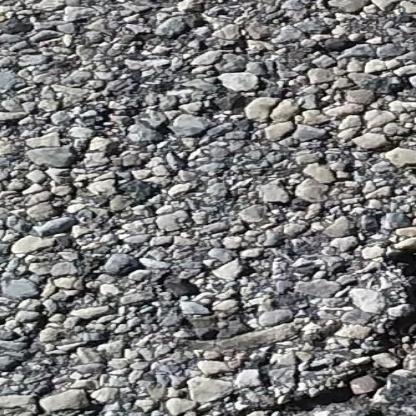Cracks: (174, 218, 416, 416)
